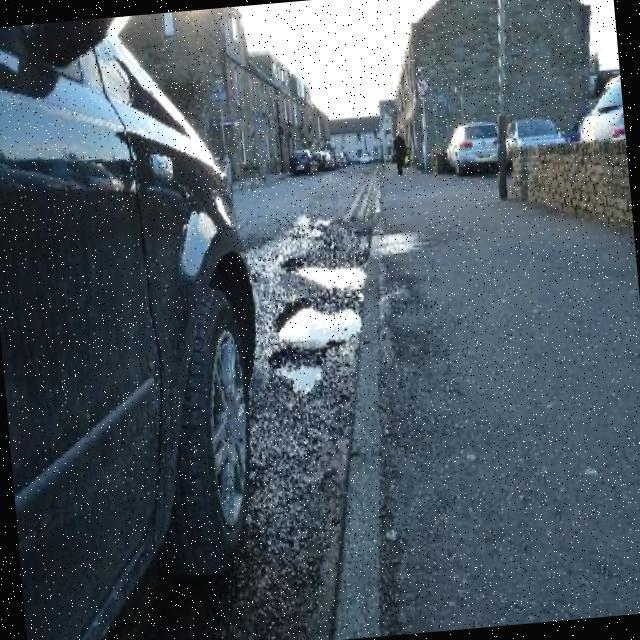Pothole: (275, 302, 361, 341), (282, 259, 366, 290), (268, 347, 322, 390)
